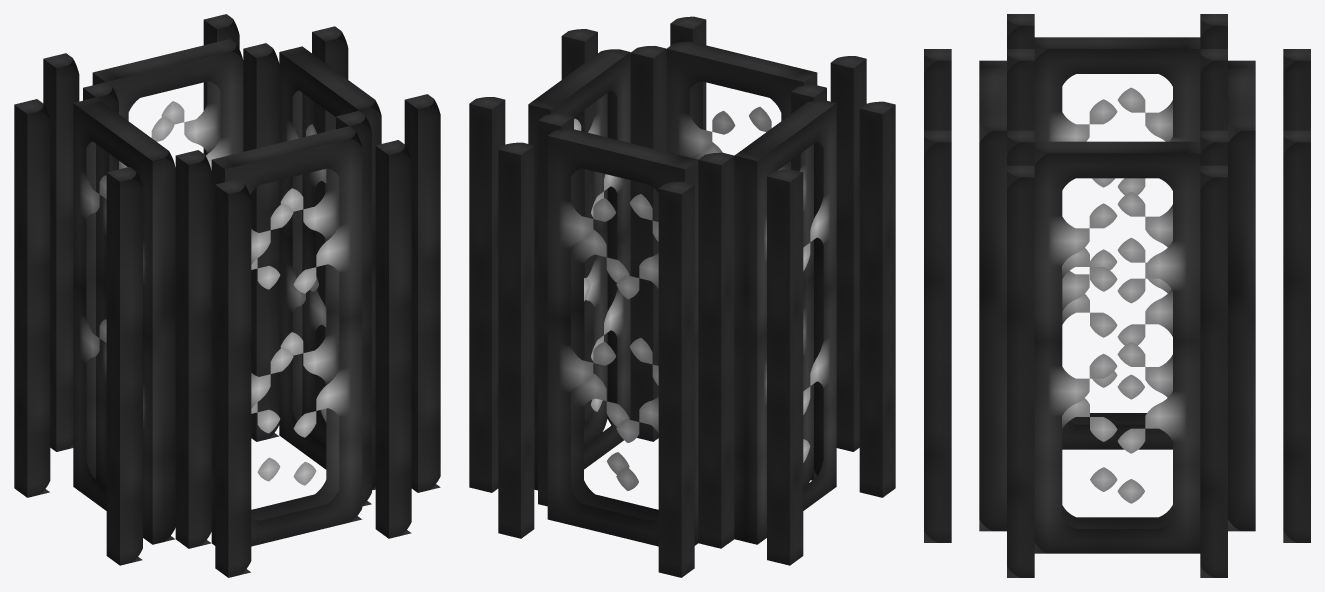
The model's file is reactor_cell_middle.obj.
The picture shows the model from 3 angles, left to right: view 1: azimuth 30°, elevation 25°; view 2: azimuth 150°, elevation 25°; view 3: azimuth 270°, elevation 25°; orthographic projection. The views are drawn at different scales.
Parts seen in each view (by area): view 1: MiddlePBack, MiddlePRight, MiddlePLeft, OPRightBack, OPBackLeft, MiddleBackRight, OPLeftFront2, OPBackRight, OPLeftBack, OPFrontRight, MiddlePFront, MiddleFrontLeft (+4 smaller); view 2: MiddlePFront, MiddlePRight, MiddlePLeft, OPFrontLeft, OPLeftFront2, OPRightBack, OPFrontRight, MiddleFrontRight, OPLeftFront, OPBackRight, MiddlePBack, MiddleBackLeft (+4 smaller); view 3: MiddlePLeft, MiddlePRight, MiddlePBack, MiddlePFront, OPLeftBack, OPFrontLeft, OPLeftFront, OPBackLeft, OPFrontRight, OPBackRight, MiddleFrontRight, MiddleBackRight (+4 smaller).
Part boxes in pixels (<box>): MiddlePBack: <box>211,126,362,546</box>; MiddlePRight: <box>73,97,175,544</box>; MiddlePLeft: <box>279,46,381,490</box>; OPRightBack: <box>106,167,142,565</box>; OPBackLeft: <box>375,140,411,538</box>; MiddleBackRight: <box>175,150,211,548</box>; OPLeftFront2: <box>14,99,50,497</box>; OPBackRight: <box>215,179,251,577</box>; OPLeftBack: <box>404,94,440,492</box>; OPFrontRight: <box>43,53,79,451</box>; MiddlePFront: <box>92,39,243,170</box>; MiddleFrontLeft: <box>243,43,279,441</box>; MiddlePFront: <box>547,129,698,546</box>; MiddlePRight: <box>734,100,836,544</box>; MiddlePLeft: <box>528,49,630,490</box>; OPFrontLeft: <box>498,142,534,538</box>; OPLeftFront2: <box>767,169,803,565</box>; OPRightBack: <box>859,101,895,497</box>; OPFrontRight: <box>658,181,694,577</box>; MiddleFrontRight: <box>698,152,734,548</box>; OPLeftFront: <box>469,97,505,492</box>; OPBackRight: <box>830,56,866,451</box>; MiddlePBack: <box>666,41,817,170</box>; MiddleBackLeft: <box>630,46,666,441</box>; MiddlePLeft: <box>1034,141,1200,553</box>; MiddlePRight: <box>1034,37,1200,449</box>; MiddlePBack: <box>979,60,1006,531</box>; MiddlePFront: <box>1228,60,1255,531</box>; OPLeftBack: <box>1007,165,1034,577</box>; OPFrontLeft: <box>1283,130,1310,542</box>; OPLeftFront: <box>1200,165,1227,577</box>; OPBackLeft: <box>924,130,951,542</box>; OPFrontRight: <box>1283,49,1310,130</box>; OPBackRight: <box>924,49,951,130</box>; MiddleFrontRight: <box>1200,49,1227,130</box>; MiddleBackRight: <box>1007,49,1034,130</box>.
Size of the model in its own units: 0.875 by 1 by 0.875.
